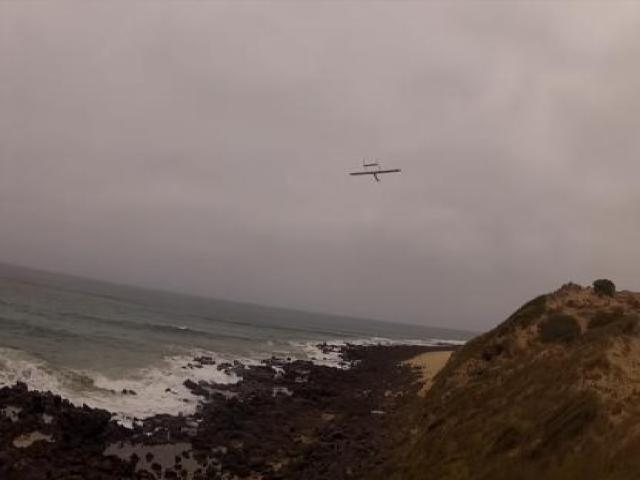uav: (342, 155, 404, 188)
